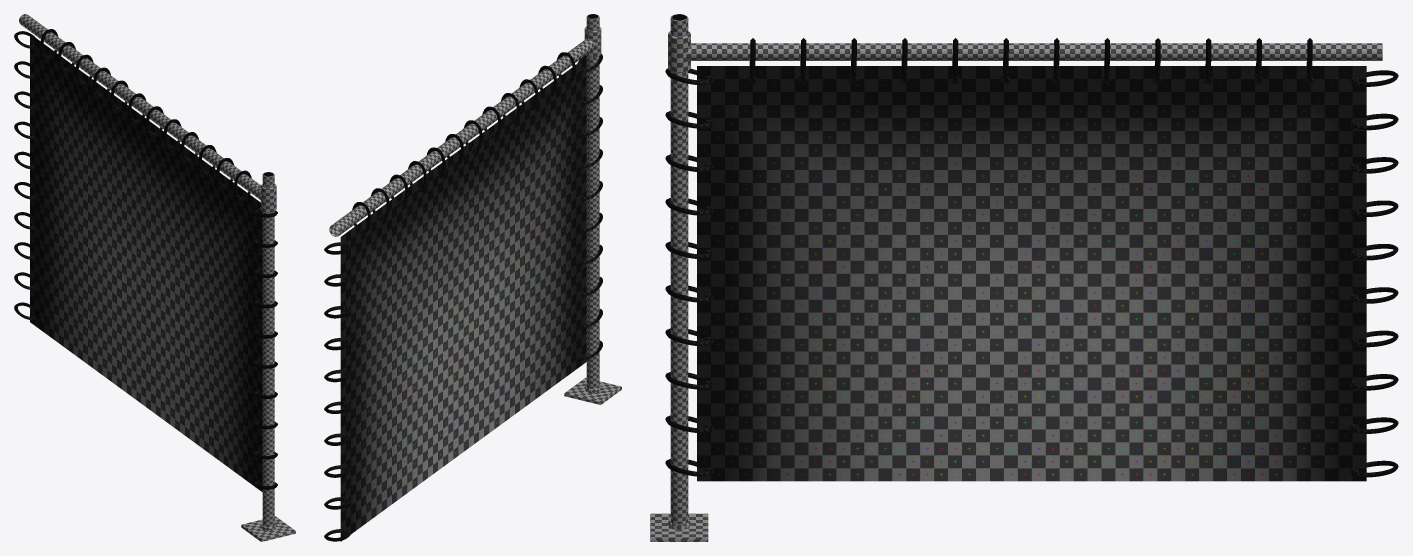
Rendered from ScaffCombined.glb.
The picture shows the model from 3 angles, left to right: view 1: azimuth 30°, elevation 25°; view 2: azimuth 150°, elevation 25°; view 3: azimuth 270°, elevation 25°; orthographic projection. The views are drawn at different scales.
Parts seen in each view (by area): view 1: TarpCombined, Base, Top; view 2: TarpCombined, Base, Top; view 3: TarpCombined, Top, Base.
Boxes of the visible parts, <box> form: TarpCombined: <box>14,29,277,491</box>; Base: <box>241,172,295,541</box>; Top: <box>19,14,260,199</box>; TarpCombined: <box>324,52,602,541</box>; Base: <box>564,14,621,404</box>; Top: <box>329,39,595,236</box>; TarpCombined: <box>665,38,1398,481</box>; Top: <box>686,43,1382,60</box>; Base: <box>650,14,708,541</box>.
Bounding box in the file's own units: 0.3289 × 3.21 × 4.25.
4 materials, 3 textured.
